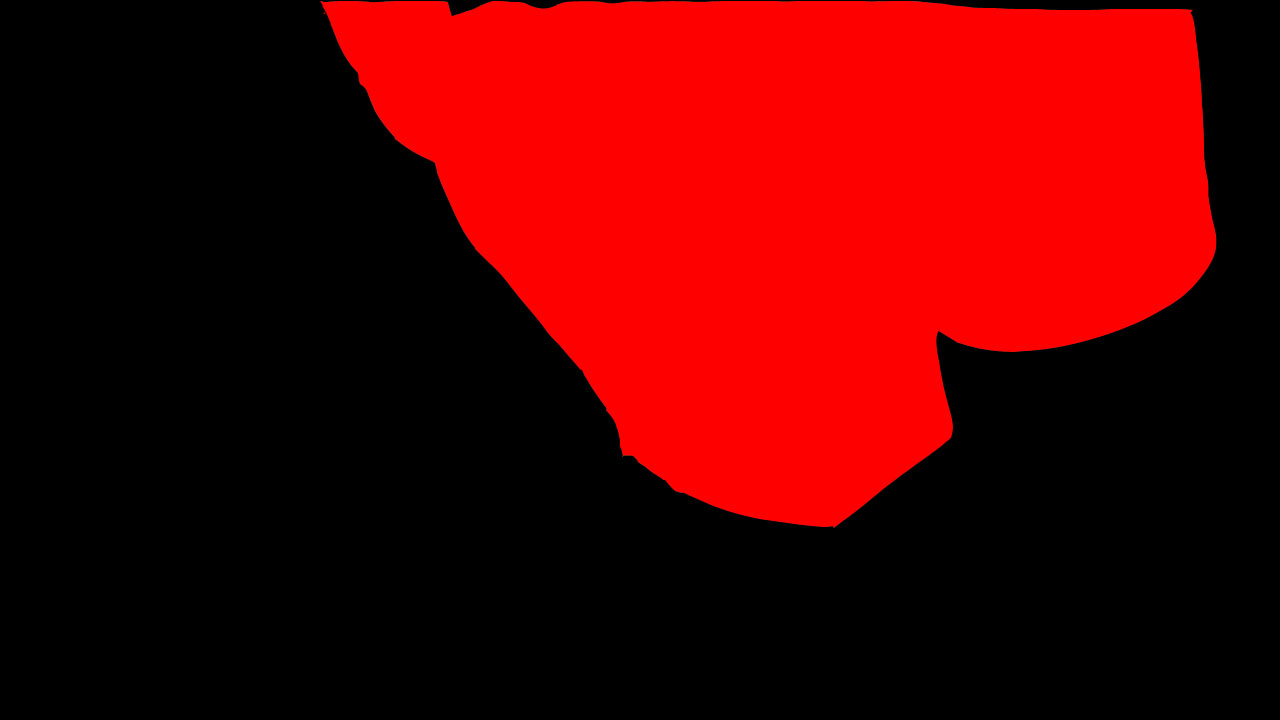uniforme_ifmt: (323, 2, 1221, 538)
